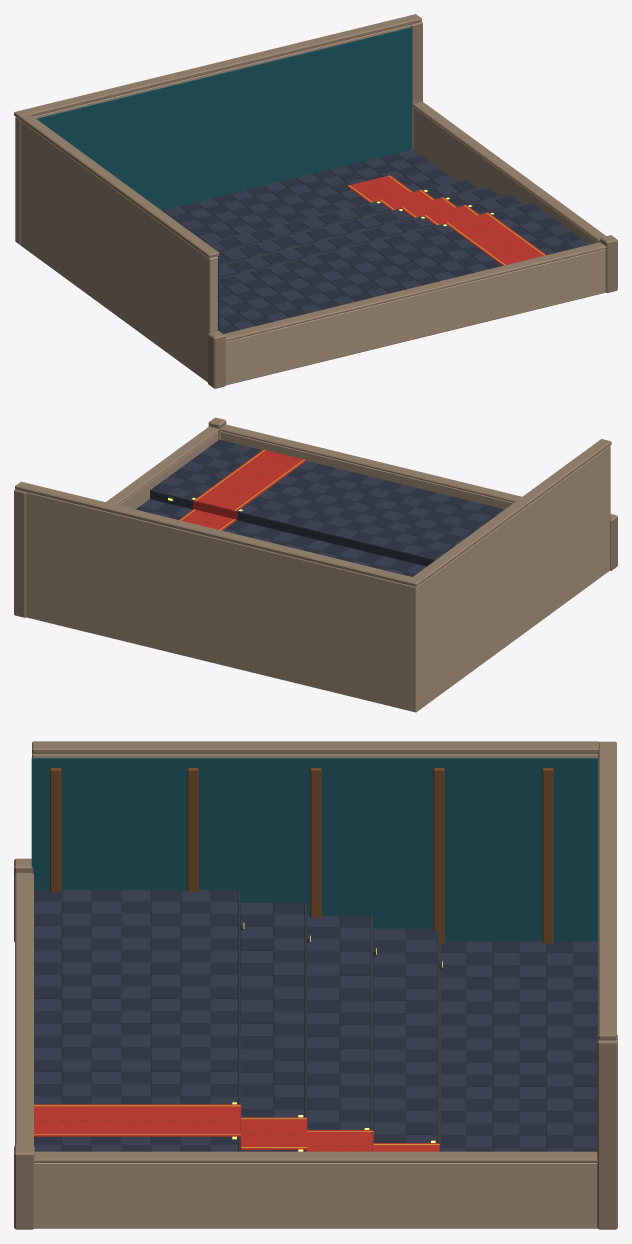
The model's file is auditorium_shell.glb.
3 renders of one model, top to bottom at view 1: azimuth 30°, elevation 25°; view 2: azimuth 150°, elevation 25°; view 3: azimuth 270°, elevation 25°, orthographic. The views are drawn at different scales.
Visible parts, largest first — view 1: auditorium_shell; view 2: auditorium_shell; view 3: auditorium_shell.
Part boxes in pixels (left/top/right/bottom): auditorium_shell: left=14, top=14, right=617, bottom=388; auditorium_shell: left=14, top=417, right=617, bottom=712; auditorium_shell: left=14, top=741, right=617, bottom=1229.
Bounding box in the file's own units: 14.76 × 4.54 × 12.76.
